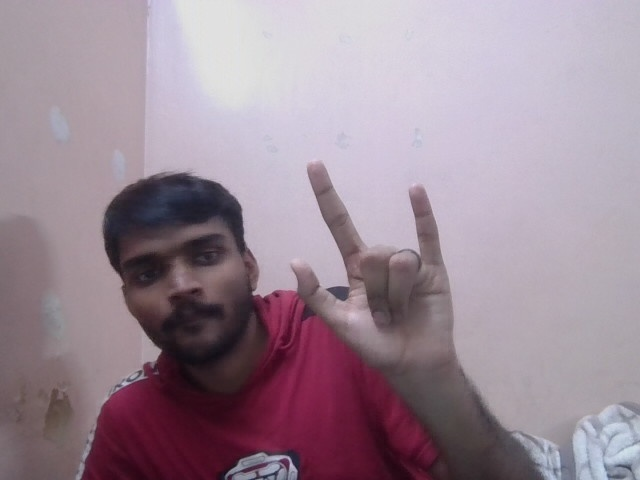I Love You: (284, 153, 485, 370)
